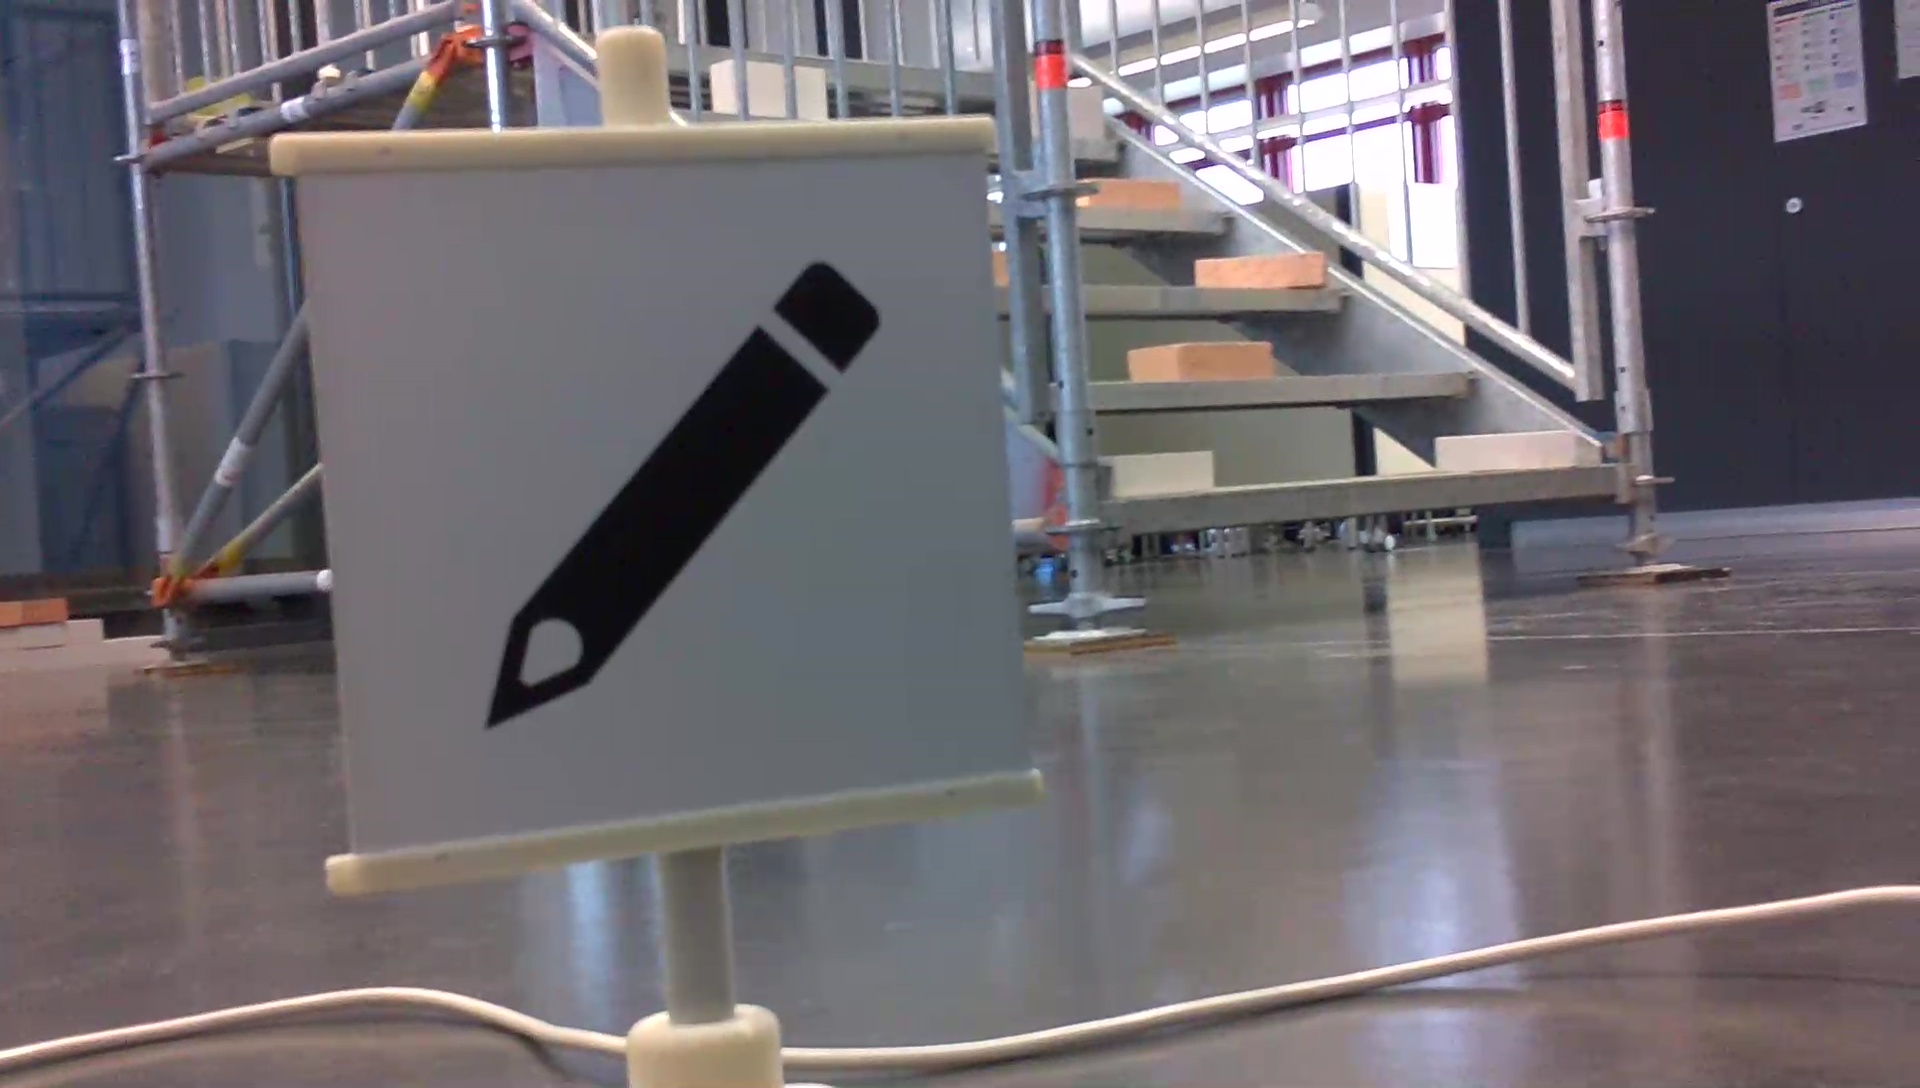brick: (1437, 430, 1575, 469), (1127, 343, 1270, 380), (1193, 253, 1323, 287), (1112, 450, 1212, 493), (1087, 179, 1178, 212), (1069, 88, 1102, 135)
edge: (1117, 468, 1615, 531), (1088, 369, 1474, 408)
pencil: (462, 247, 891, 745)
stairs: (1018, 7, 1727, 658)
